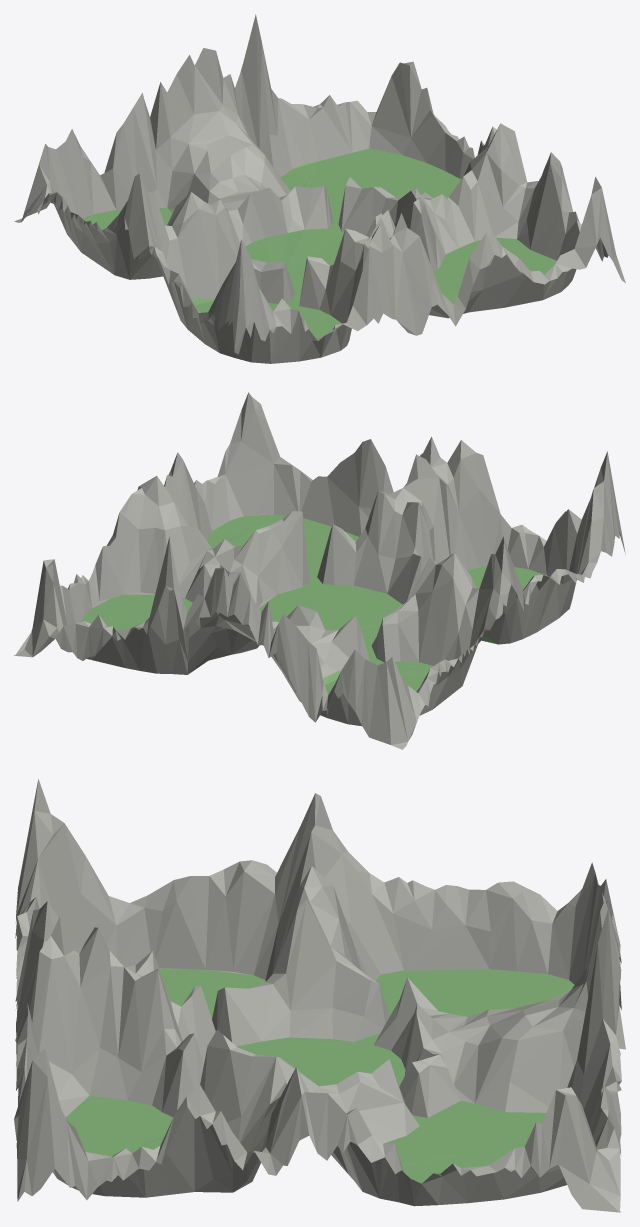
File: Terrain.fbx
3 views of the same model, one above another, from view 1: azimuth 30°, elevation 25°; view 2: azimuth 150°, elevation 25°; view 3: azimuth 270°, elevation 25° (orthographic). The views are drawn at different scales.
Visible parts, largest first — view 1: game_prt_2:Mesh; view 2: game_prt_2:Mesh; view 3: game_prt_2:Mesh.
Part boxes in pixels (box(x1,y1,x2,y2)): game_prt_2:Mesh: box(14, 14, 625, 363); game_prt_2:Mesh: box(15, 392, 625, 749); game_prt_2:Mesh: box(14, 779, 625, 1212).
Bounding box in the file's own units: 1013 × 377 × 1014.
